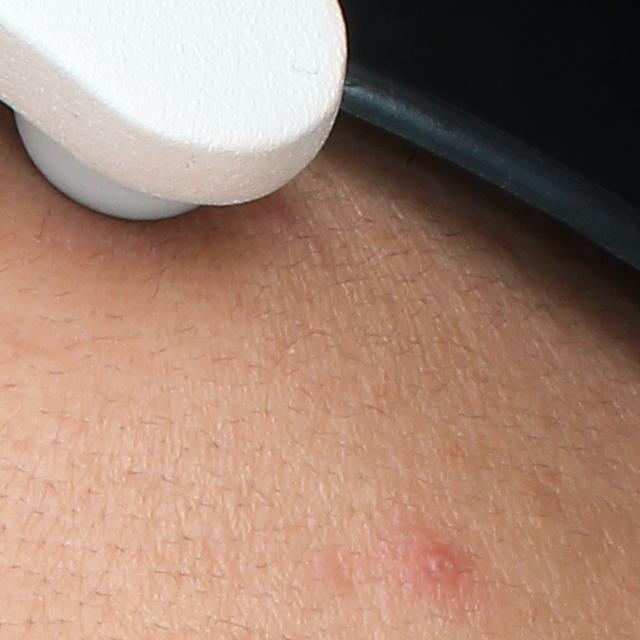papule: (419, 543, 464, 584)
